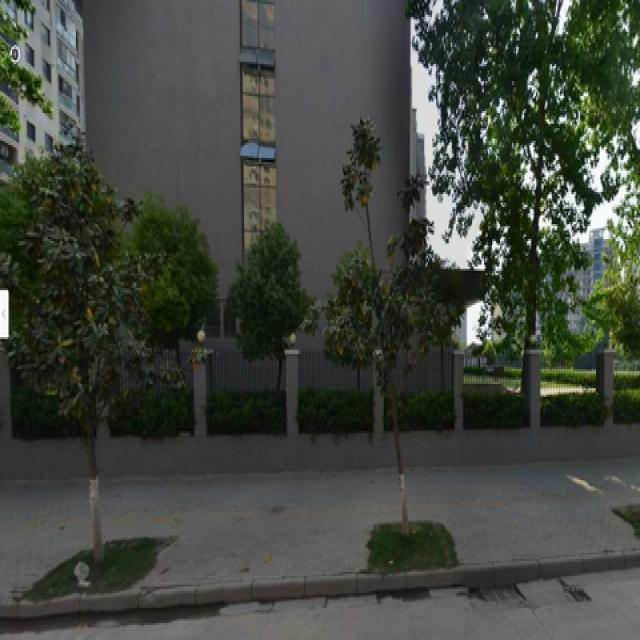magn: (21, 158, 159, 550)
